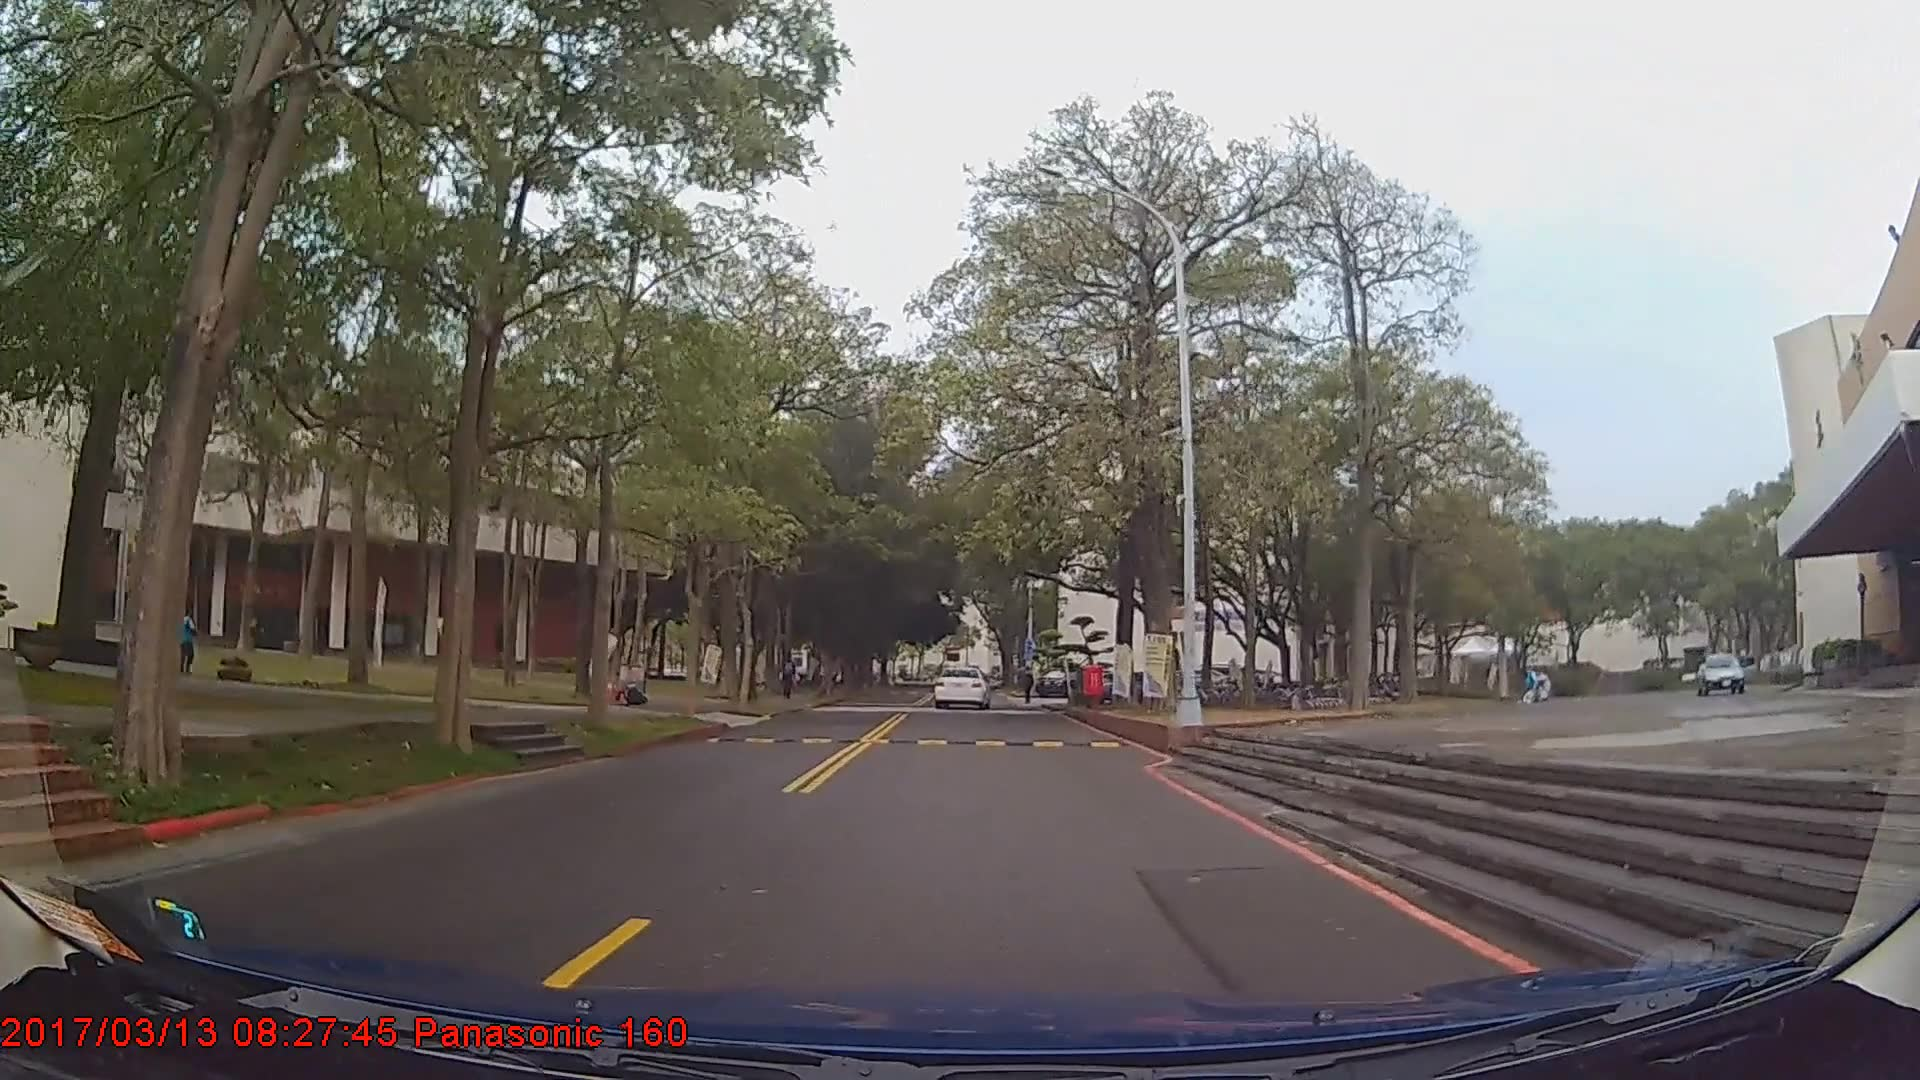vehicle: (1692, 650, 1760, 698), (932, 665, 990, 709)
